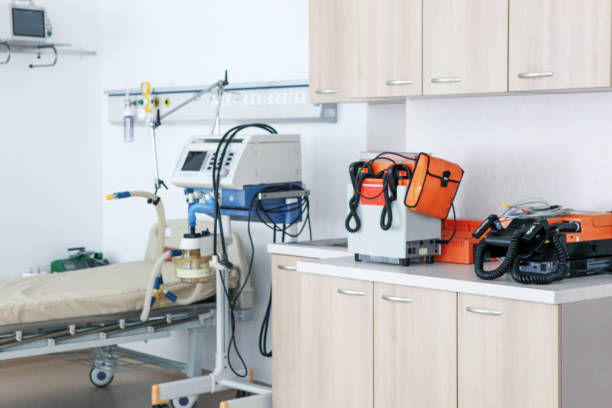bedside_monitor: (7, 4, 53, 45)
breathing_tube: (105, 188, 206, 322)
cabinet: (306, 1, 609, 98)
counter: (267, 243, 610, 408)
countertop: (264, 235, 610, 306)
handle: (463, 304, 503, 318), (379, 294, 412, 306), (335, 287, 366, 298), (516, 70, 553, 79), (383, 77, 413, 88), (430, 75, 461, 85), (314, 87, 340, 97), (276, 263, 297, 273)
hospital_bed: (1, 218, 246, 408)
ventilator: (172, 131, 310, 371)
